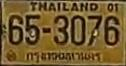0: (70, 14, 85, 45)
3: (53, 14, 68, 44)
5: (24, 14, 40, 44)
6: (103, 15, 118, 45), (8, 14, 22, 44)
7: (88, 14, 102, 45)
BKK: (24, 49, 102, 63)
